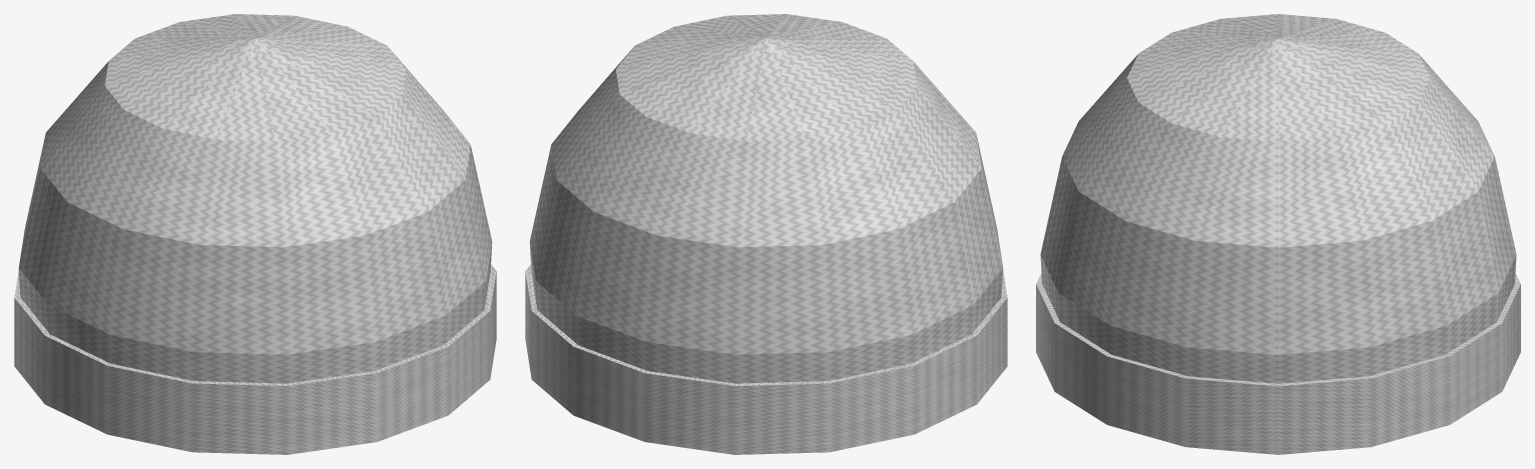
File: acc_beanie.obj
3 views of the same model, side by side, from view 1: azimuth 30°, elevation 25°; view 2: azimuth 150°, elevation 25°; view 3: azimuth 270°, elevation 25° (orthographic).
Parts seen in each view (by area): view 1: acc_beanie; view 2: acc_beanie; view 3: acc_beanie.
Boxes of the visible parts, left/top/right/bottom form: acc_beanie: left=14, top=14, right=496, bottom=454; acc_beanie: left=525, top=14, right=1007, bottom=454; acc_beanie: left=1036, top=14, right=1520, bottom=454.
Size of the model in its own units: 0.224 by 0.16 by 0.224.
Materials: 1 (1 with a texture image).
